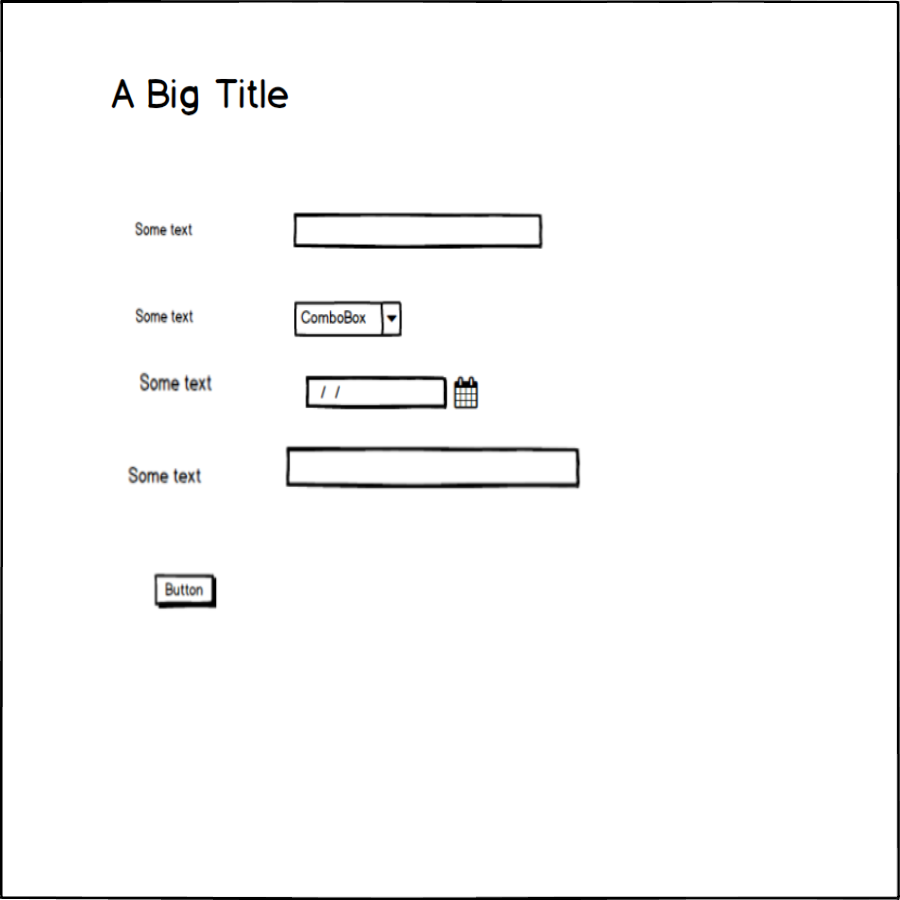button: (149, 566, 224, 615)
date_picker: (296, 364, 483, 421)
h1: (108, 70, 294, 119)
input: (281, 438, 586, 495), (286, 204, 552, 259)
label: (119, 454, 209, 492), (133, 363, 222, 399), (130, 215, 198, 244), (135, 299, 197, 330)
select_box: (290, 296, 411, 344)
